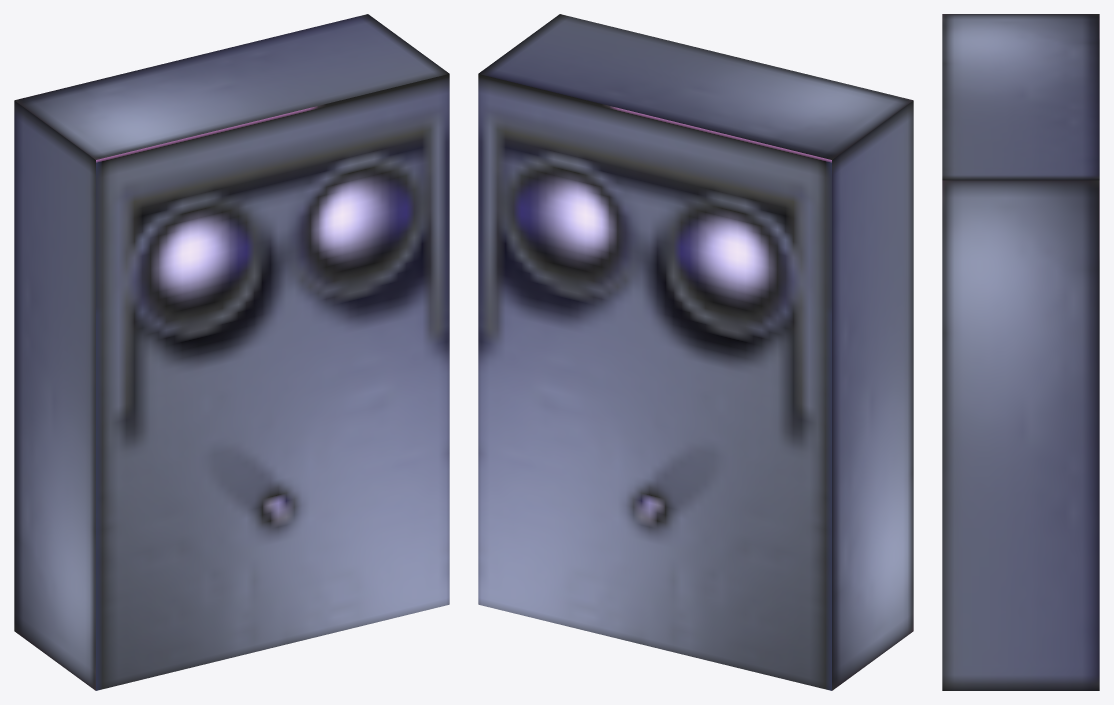
3 views of the same model, side by side, from view 1: azimuth 30°, elevation 25°; view 2: azimuth 150°, elevation 25°; view 3: azimuth 270°, elevation 25° (orthographic). The views are drawn at different scales.
Parts seen in each view (by area): view 1: Box17; view 2: Box17; view 3: Box17.
Part boxes in pixels (x1=…): Box17: x1=14, y1=14, x2=449, y2=690; Box17: x1=478, y1=14, x2=913, y2=690; Box17: x1=942, y1=14, x2=1099, y2=690.
Size of the model in its own units: 53.77 by 77.07 by 21.51.
Materials: 1 (1 with a texture image).
